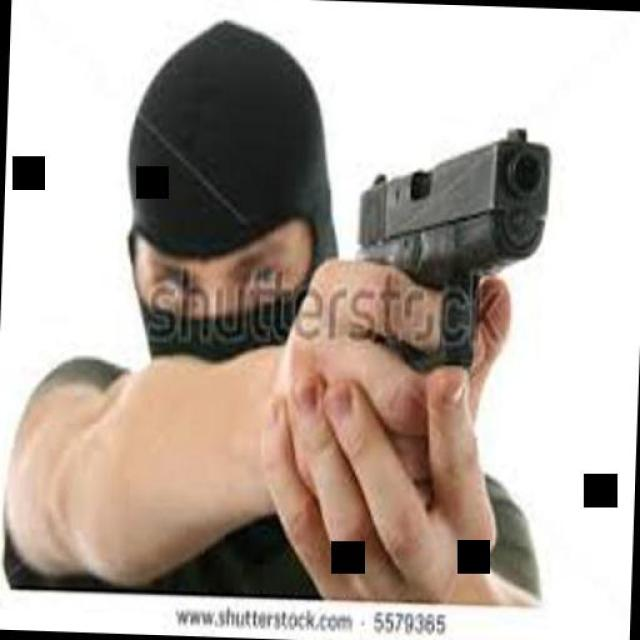gun: (348, 124, 548, 380)
